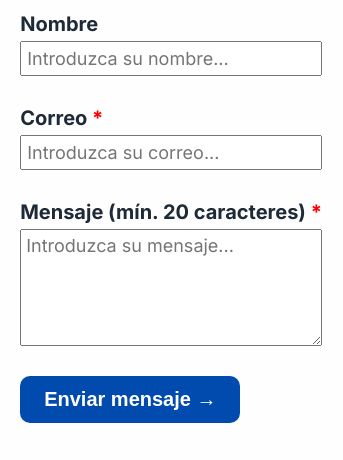
Test: ContactForm component test suite › should display an error message and apply the class if the email is incorrect
The image size is (343, 460).
Type "test" into the field named "name-input" at (171, 58), box x1=20 y1=41 x2=322 y2=76
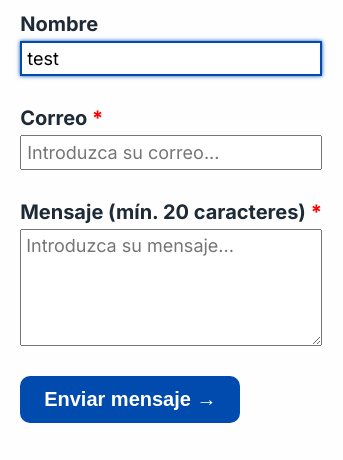
Type "testname@email.c" into the field named "email-input" at (171, 152), box x1=20 y1=135 x2=322 y2=170
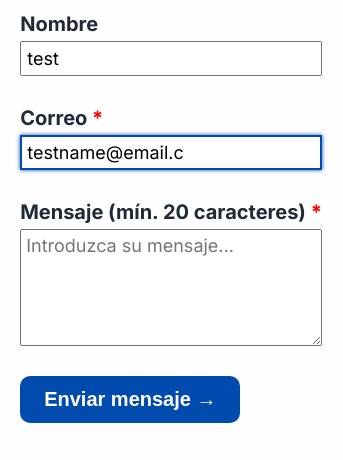
Type "Lorem ipsum dolor sit amet consecterum asasa asdad asdad" into the text box named "msg-input" at (171, 288), box x1=20 y1=229 x2=322 y2=346
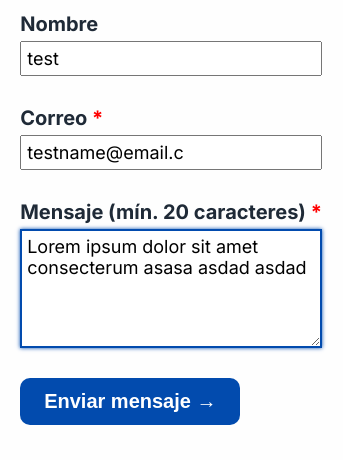
Click the button at (130, 402), box x1=20 y1=378 x2=240 y2=425
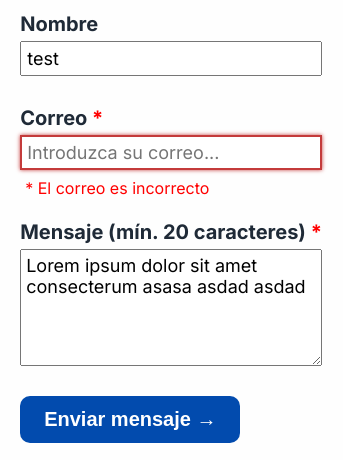
Result: the message "* El correo es incorrecto" is shown at x1=25 y1=178 x2=209 y2=198
Result: the field named "email-input" is empty at x1=20 y1=135 x2=322 y2=170
